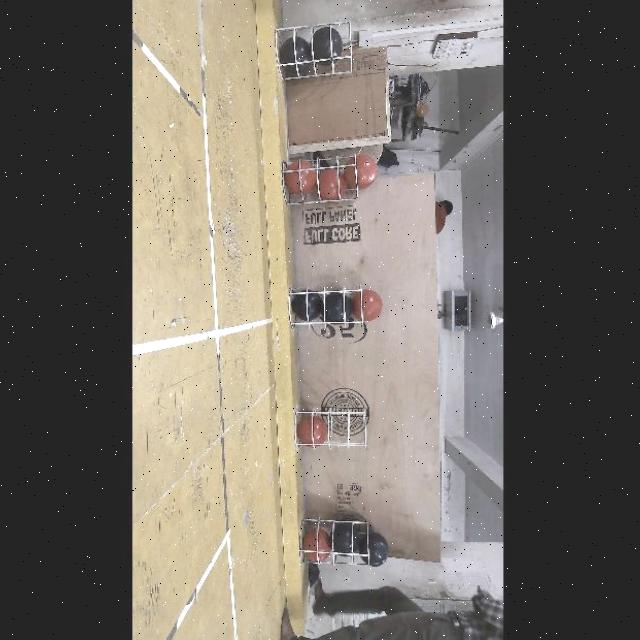P: (309, 24, 341, 66), (279, 35, 311, 73), (328, 522, 358, 556), (358, 532, 387, 567), (289, 290, 321, 320), (322, 293, 351, 325)
R: (282, 158, 316, 196), (342, 154, 376, 190), (350, 289, 381, 322), (315, 168, 345, 202), (295, 416, 327, 446), (300, 528, 328, 562)
S: (271, 24, 355, 86), (291, 507, 371, 571), (283, 158, 361, 208), (286, 284, 362, 326), (294, 410, 368, 450)
